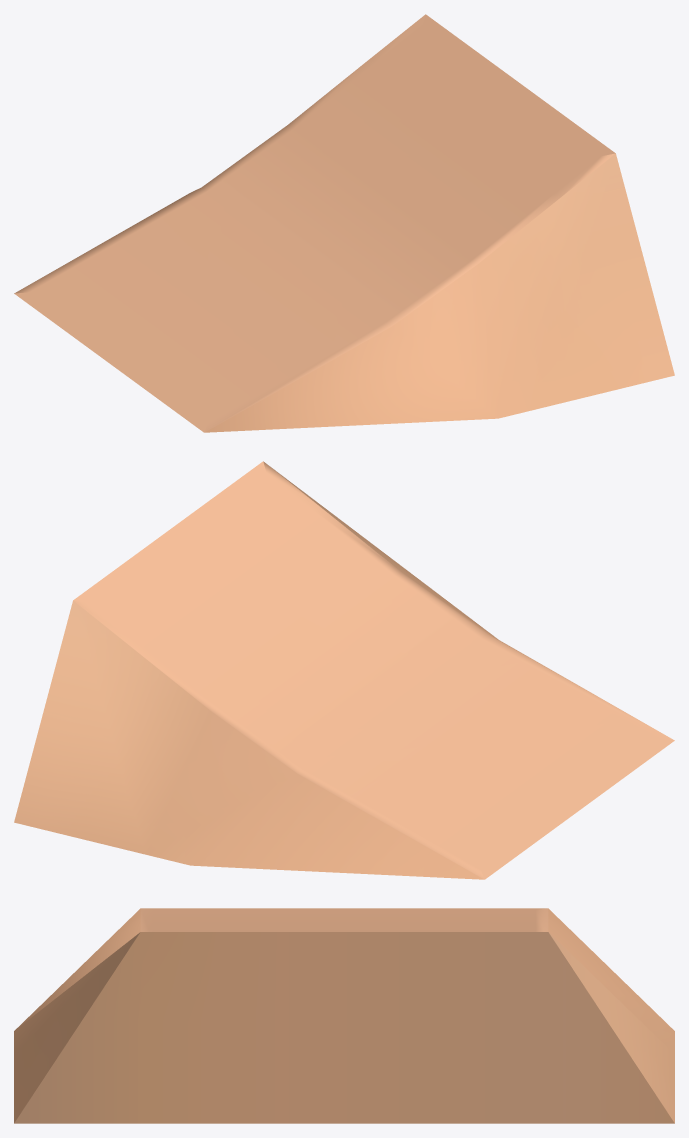
File: DirtBikeSandTrackJump.glb
The picture shows the model from 3 angles, top to bottom: view 1: azimuth 30°, elevation 25°; view 2: azimuth 150°, elevation 25°; view 3: azimuth 270°, elevation 25°; orthographic projection. The views are drawn at different scales.
Parts seen in each view (by area): view 1: DirtBikeSandTrackJump; view 2: DirtBikeSandTrackJump; view 3: DirtBikeSandTrackJump.
Part boxes in pixels (x1=…): DirtBikeSandTrackJump: x1=14, y1=14, x2=674, y2=432; DirtBikeSandTrackJump: x1=14, y1=461, x2=674, y2=879; DirtBikeSandTrackJump: x1=14, y1=908, x2=674, y2=1123.
Bounding box in the file's own units: 5 × 2.08 × 6.49.
1 material, 1 textured.
